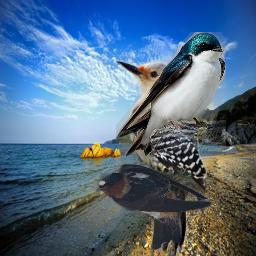Swallow: (116, 32, 226, 156), (95, 162, 214, 250)
Woodpecker: (116, 60, 207, 255)
